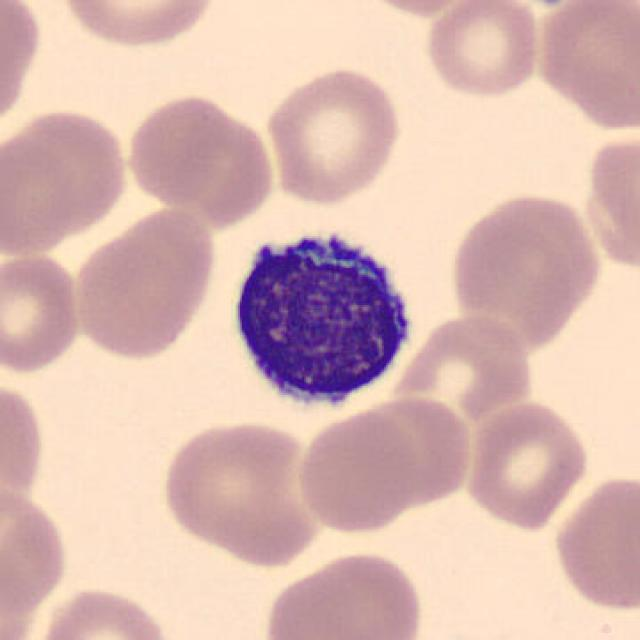Lymphocyte: (221, 216, 423, 420)
RBC: (156, 416, 329, 568), (446, 189, 604, 347), (68, 203, 220, 365), (121, 90, 277, 226), (262, 64, 406, 206), (0, 104, 133, 255), (460, 397, 592, 532), (389, 310, 535, 425), (294, 405, 419, 536), (345, 391, 478, 513), (260, 548, 428, 640), (533, 0, 640, 132), (550, 469, 638, 614), (421, 0, 543, 100), (0, 246, 85, 377), (0, 480, 73, 620), (28, 583, 177, 640), (54, 0, 220, 51), (582, 129, 638, 275), (0, 374, 48, 518), (0, 0, 46, 138), (350, 0, 482, 18)
